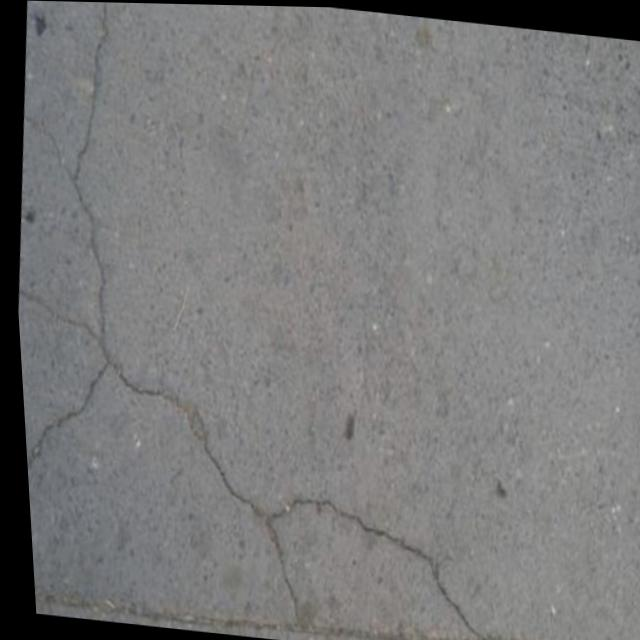Crack: (0, 0, 545, 640)
